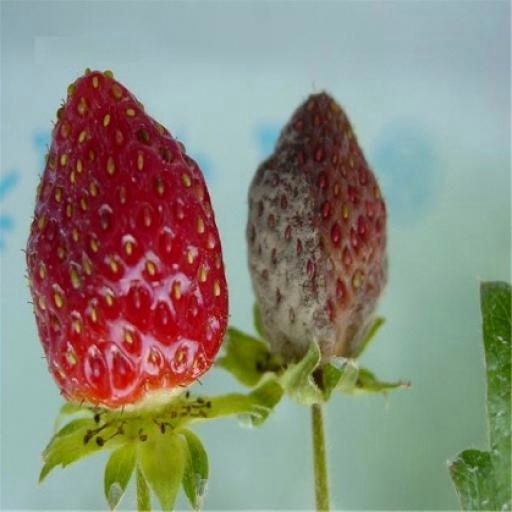Gray Mold: (121, 142, 267, 422)
